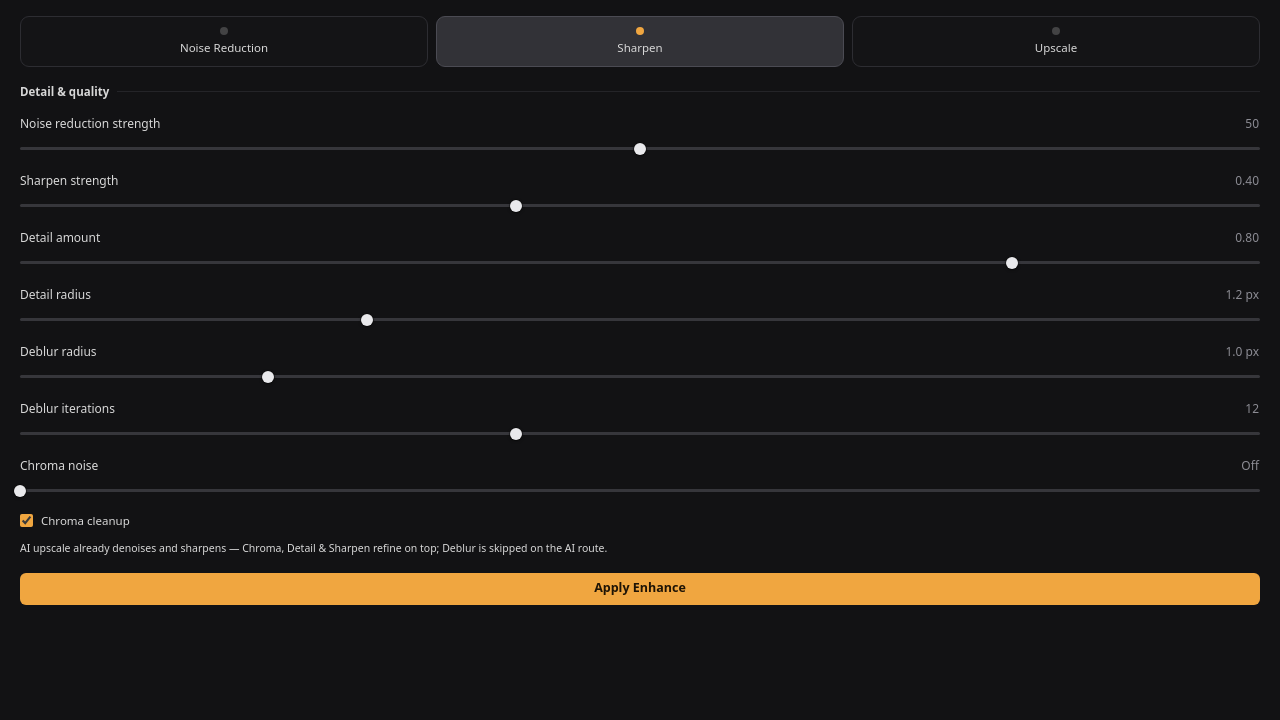
Test: EnhanceModuleComponent › renders an "AI" badge when the store upscaleMode is "ai"
Step 1. Click the button "Upscale" → {"x": 1056, "y": 42}, box [852,16,1260,67]
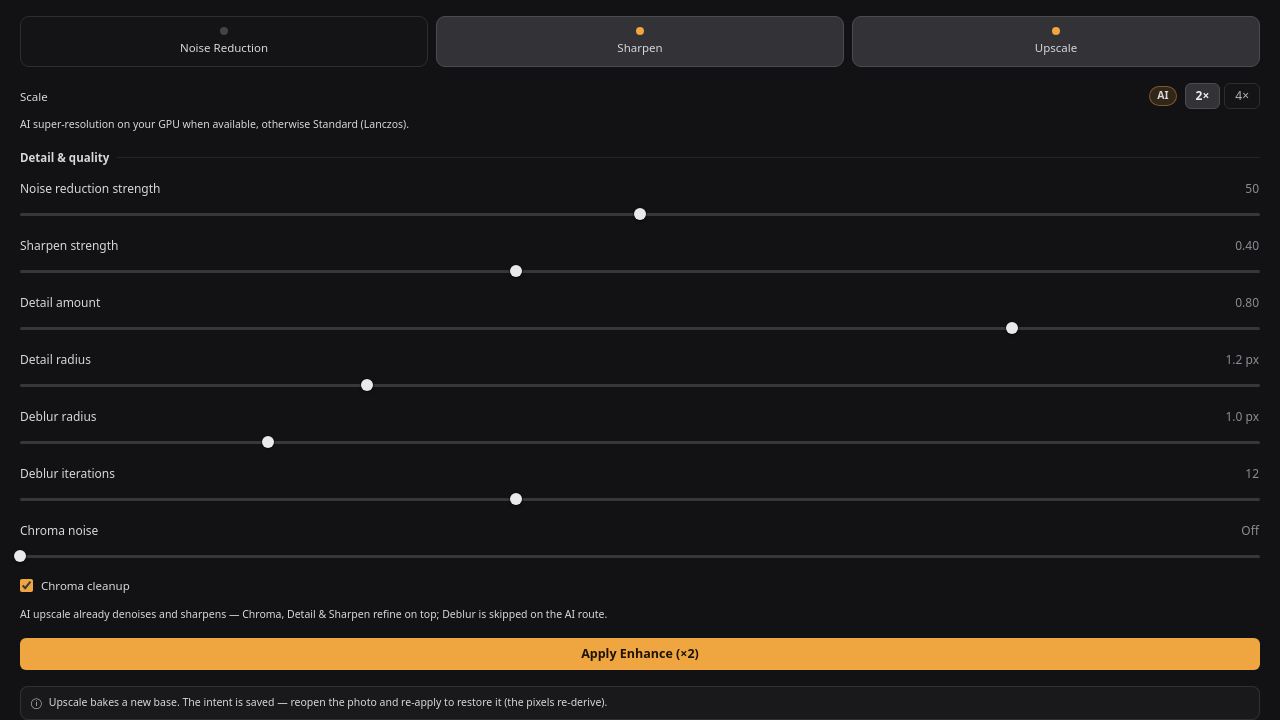
Check: the text with test id "upscale-mode-badge" reads "AI", box [1157,88,1168,102]
